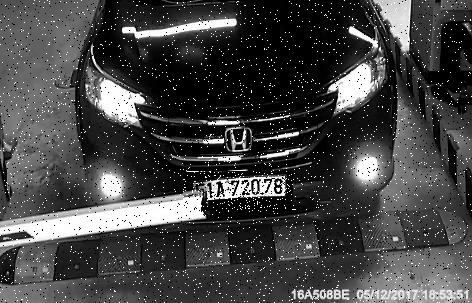License-plate: (185, 173, 296, 214)
